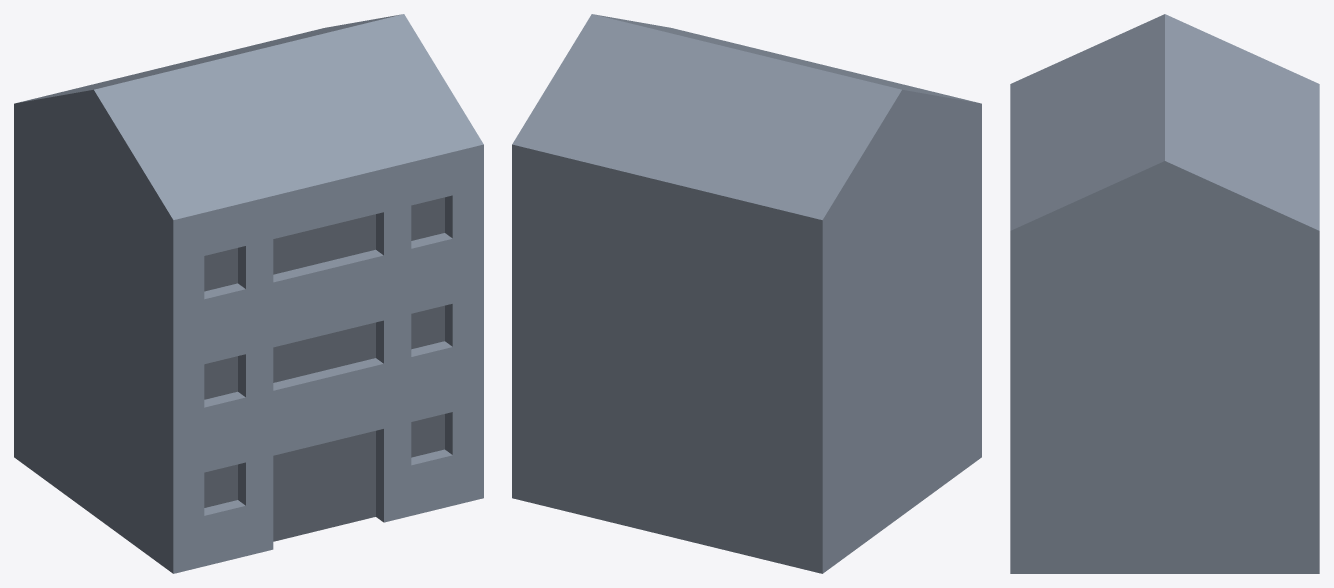
The model's file is binakapanacak5.gltf.
The picture shows the model from 3 angles, left to right: view 1: azimuth 30°, elevation 25°; view 2: azimuth 150°, elevation 25°; view 3: azimuth 270°, elevation 25°; orthographic projection. The views are drawn at different scales.
Visible parts, largest first — view 1: Building_056.010, Building_056.014, Building_056.015; view 2: Building_056.010; view 3: Building_056.010.
Part boxes in pixels (x1,y1,x2,y2): Building_056.010: (14, 14, 483, 573); Building_056.014: (204, 197, 444, 507); Building_056.015: (273, 431, 375, 541); Building_056.010: (512, 14, 981, 573); Building_056.010: (1010, 14, 1319, 573).
Bounding box in the file's own units: 0.0489 × 0.0641 × 0.0435.
